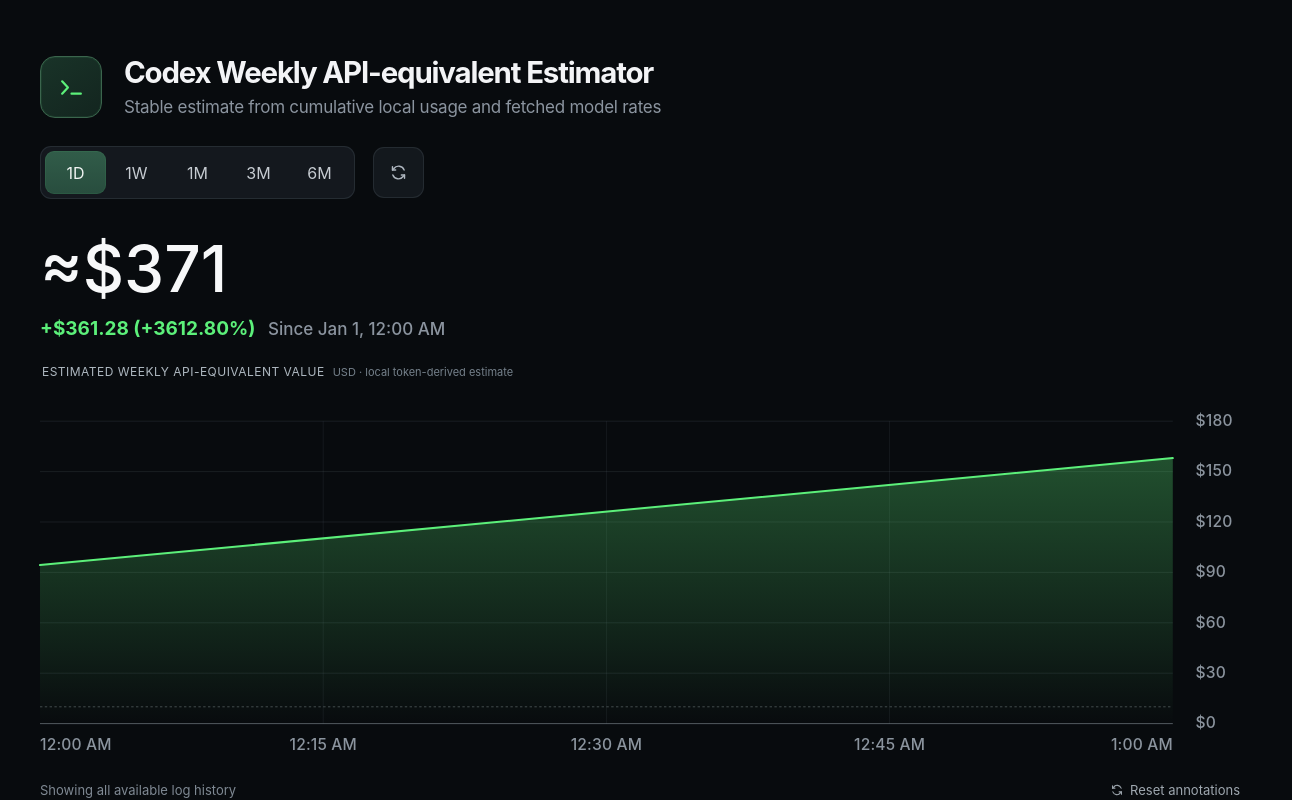
it: NerfTrack app shell › shows a same-window calibration difference without neutral styling
Press the mouse on the picture named "Estimated weekly API-equivalent value" at (640, 584), box [40, 386, 1240, 782]
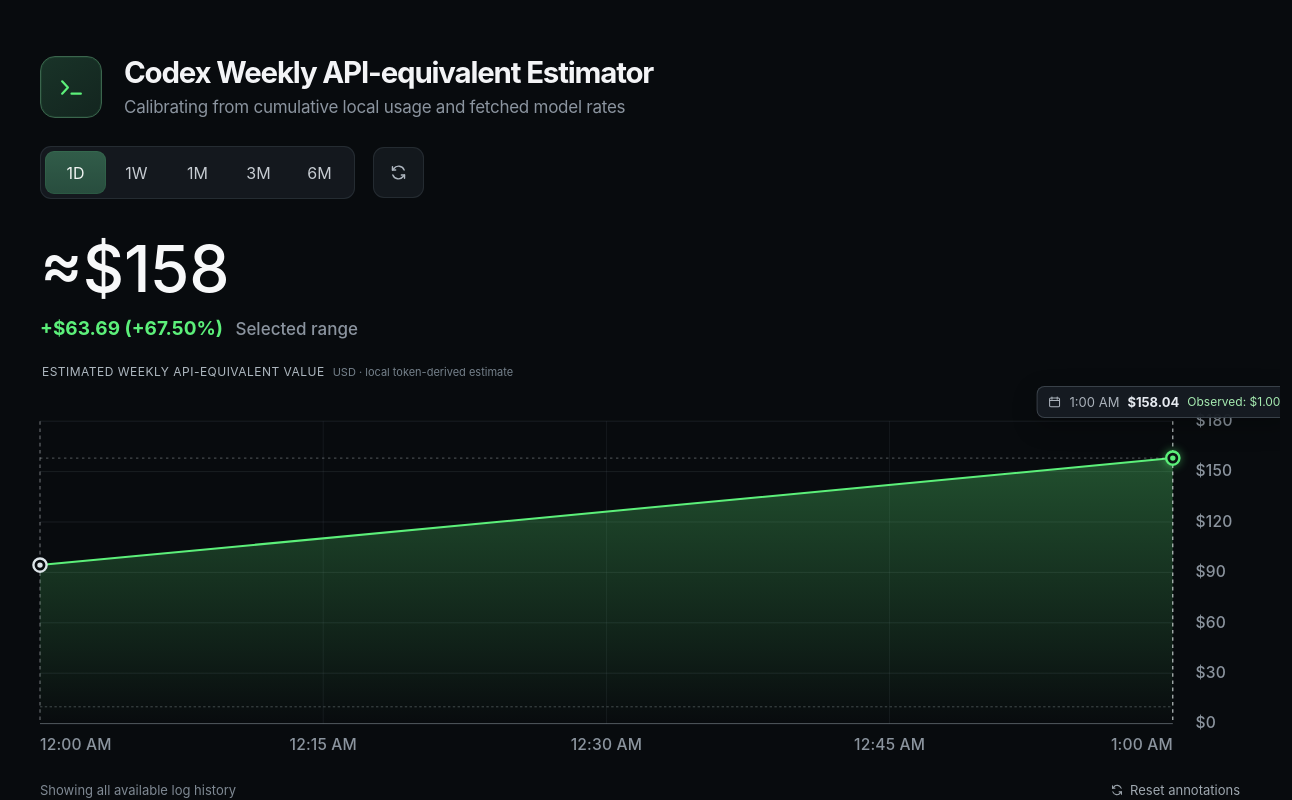
Result: the text "≈$158" is shown at [40, 230, 230, 307]
